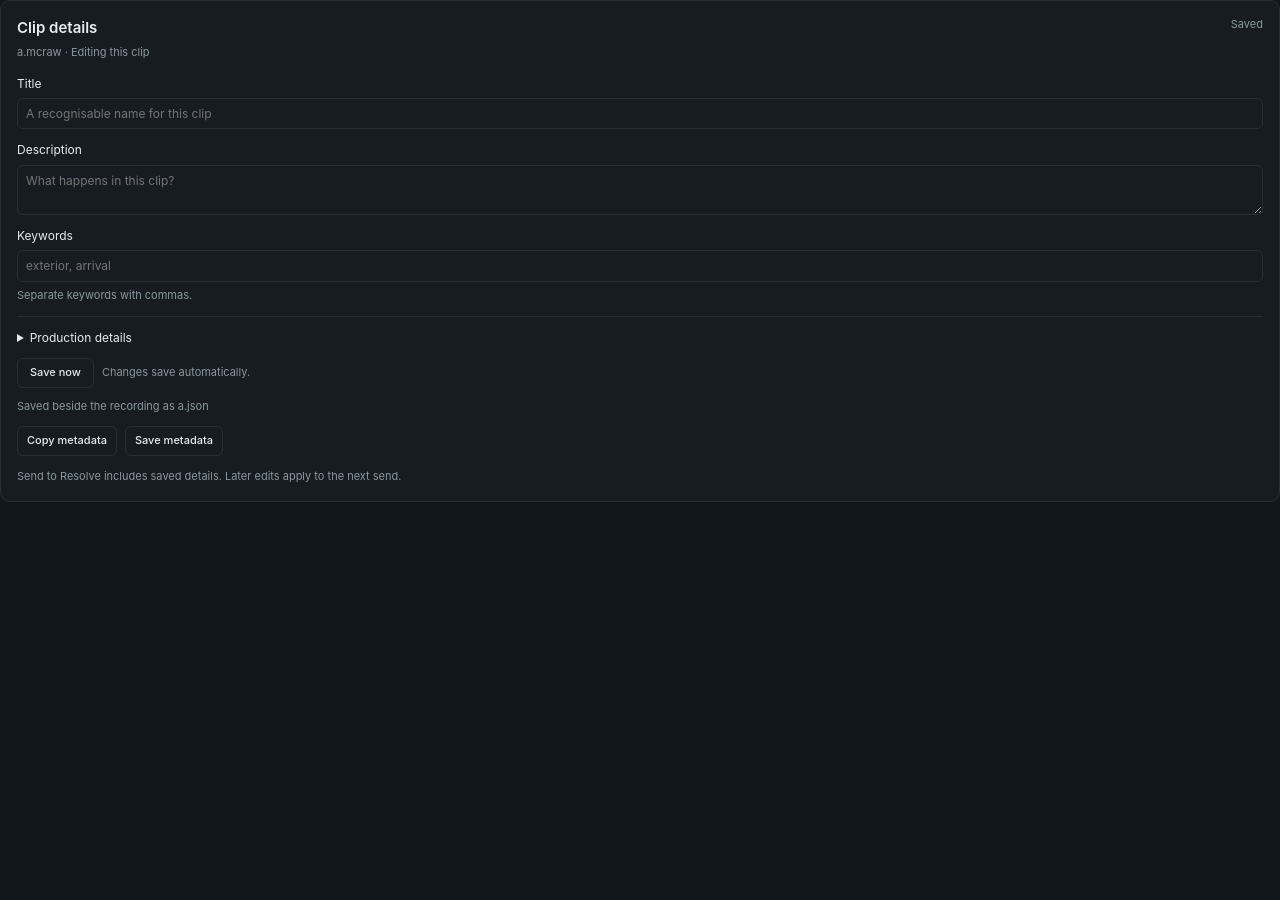
Scenario: suggests the nearest place for Location and fills it when asked
The width and height of the screenshot is (1280, 900).
Expected: the field labelled "Title" is enabled, [17, 98, 1263, 130]
Click the heading "Production details" at (81, 337), box [30, 330, 132, 345]
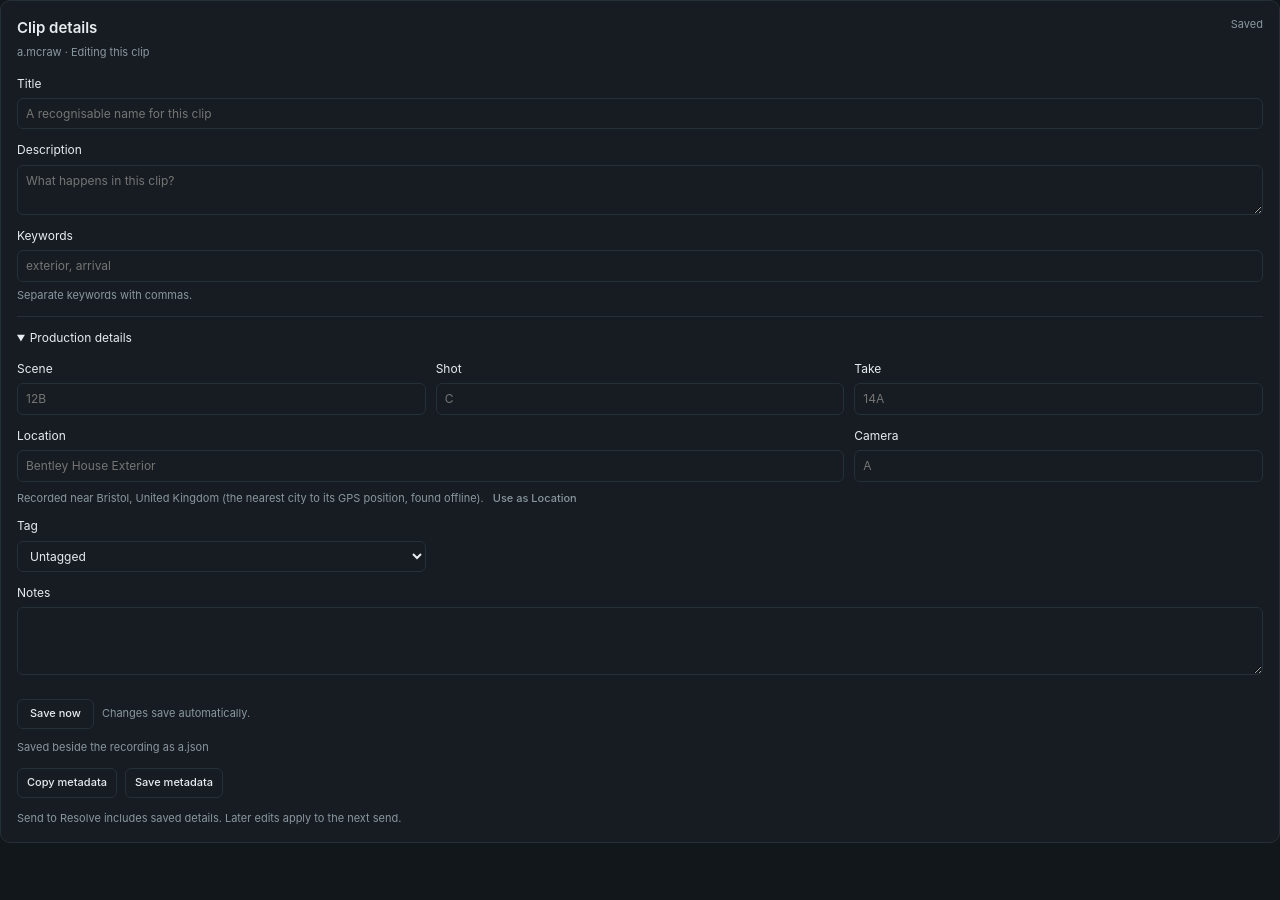
Now the text "Recorded near Bristol, United Kingdom" is shown, box [17, 490, 487, 504]
Click the button "Use as Location" at (535, 498), box [487, 490, 583, 507]
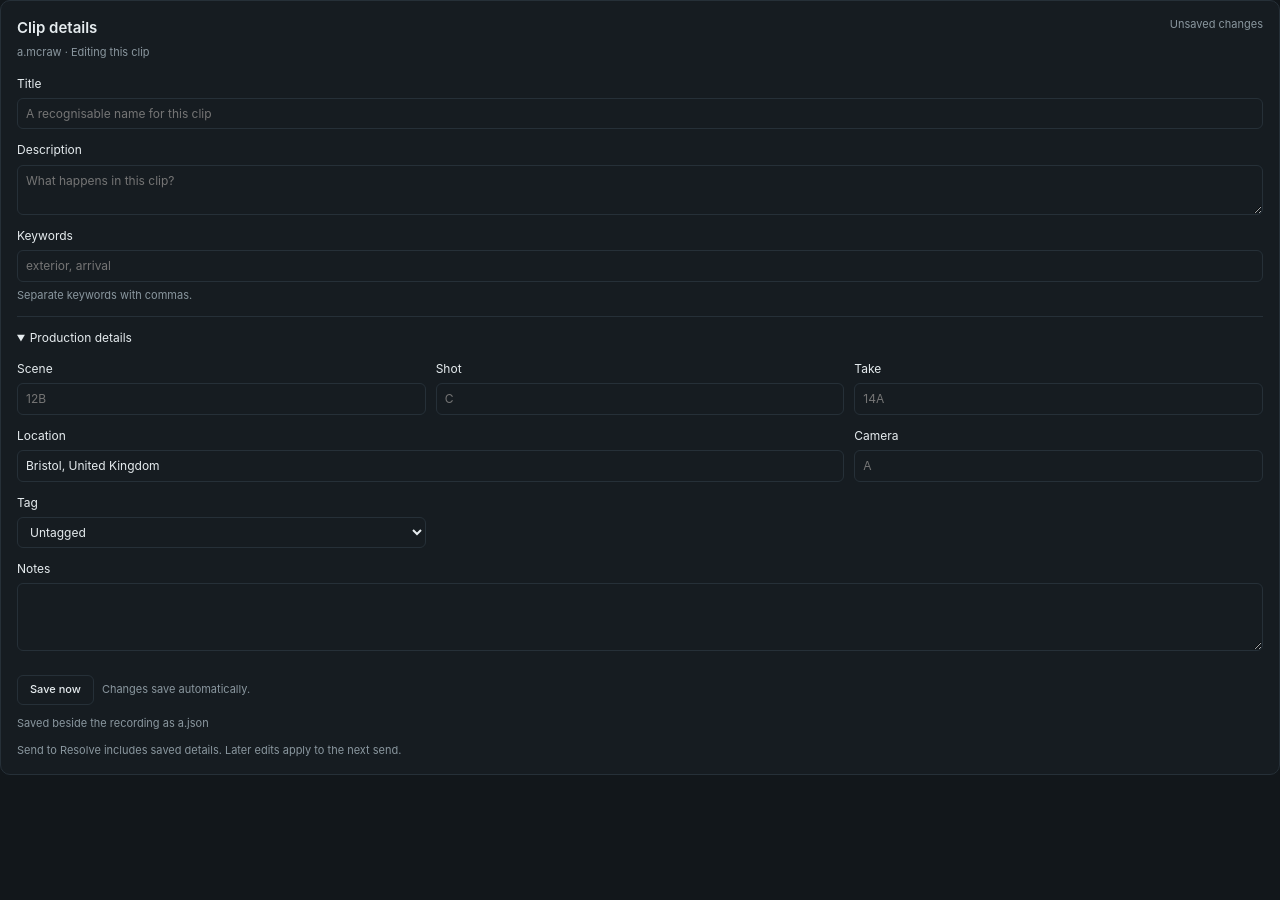
Now the field labelled "Location" holds "Bristol, United Kingdom", box [17, 450, 844, 482]
Now the button "Use as Location" is gone
